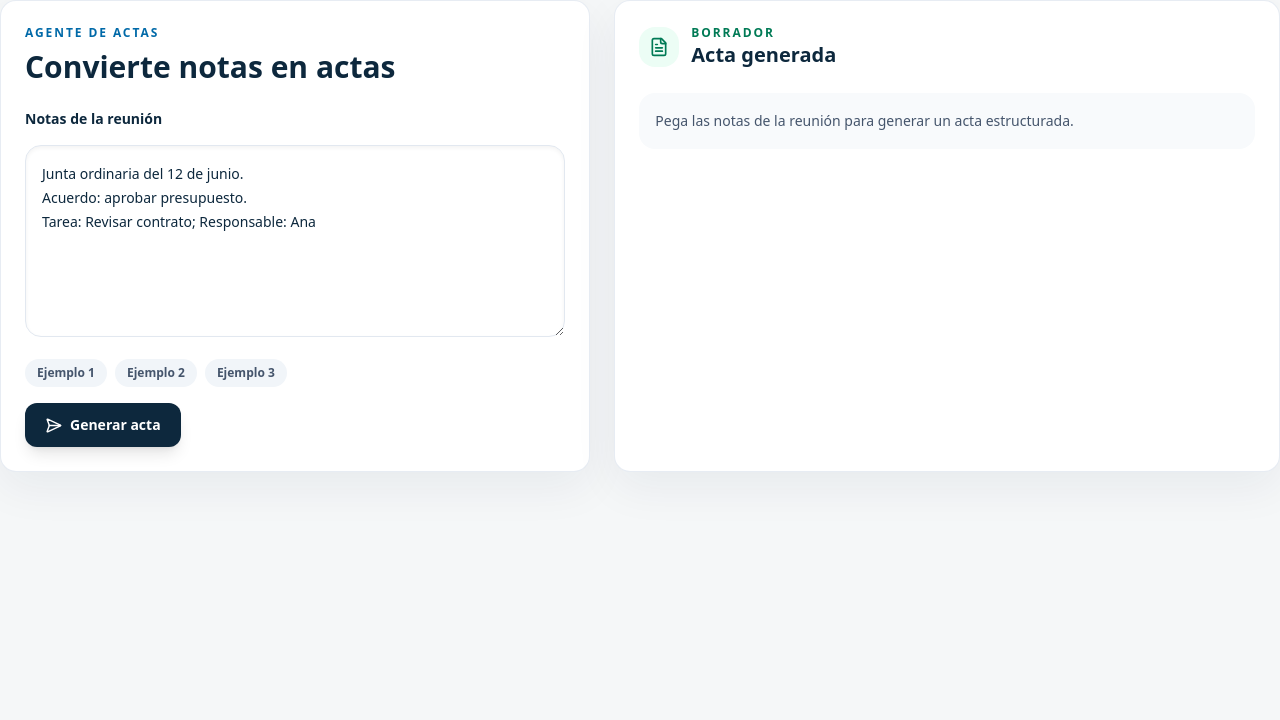
MeetingMinutesPanel › redacta y muestra un acta con tareas detectadas
Step 1. Replace the text in the text box labelled "Notas de la reunión" with "Acuerdo: aprobar presupuesto." → (295, 241), box [25, 145, 565, 337]
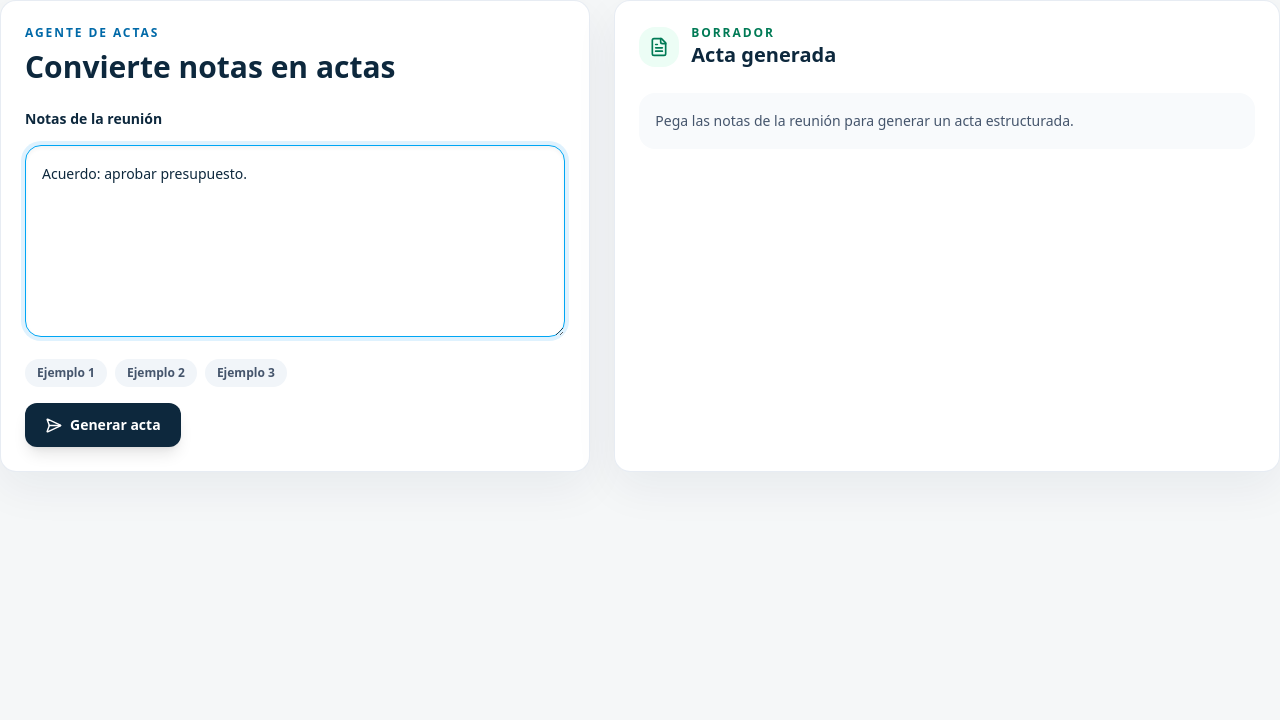
Step 2. Click the button "Generar acta" → (103, 425), box [25, 403, 181, 447]
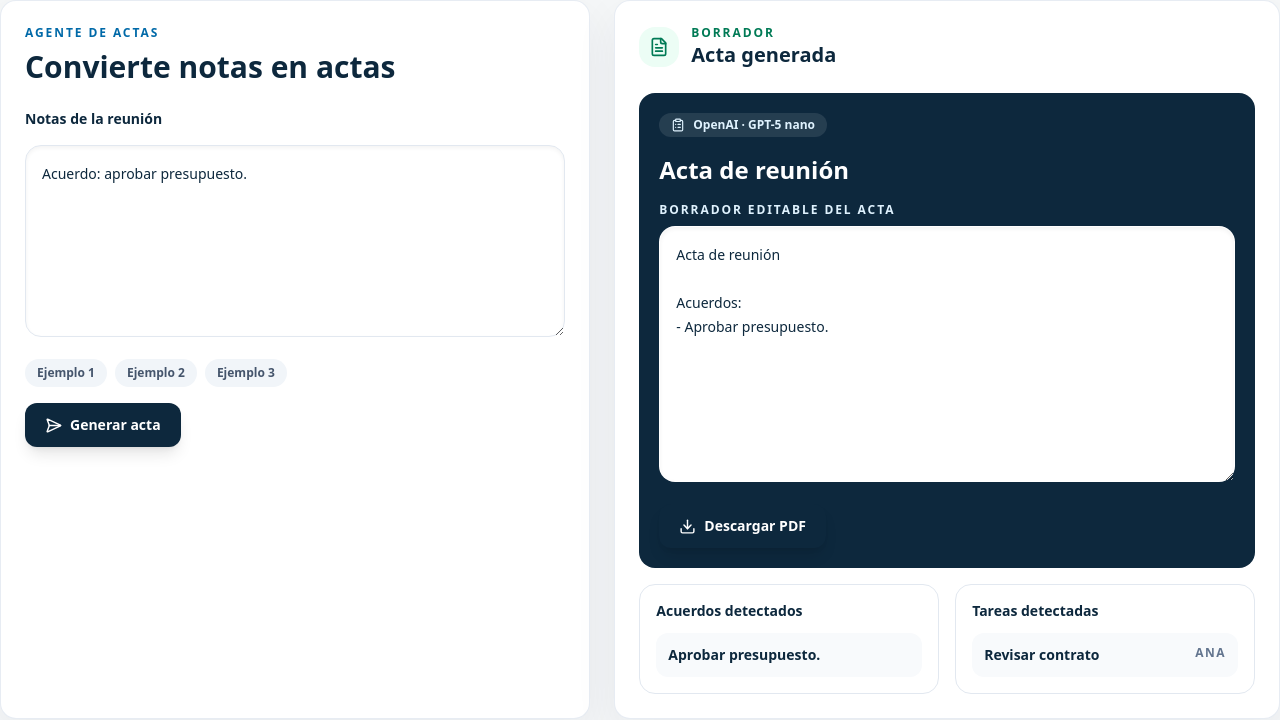
Check: the heading "Acta de reunión" is shown, box [659, 153, 849, 186]
Check: the text box showing "Acuerdos:" is shown, box [659, 226, 1235, 482]
Check: the heading "Acuerdos detectados" is shown, box [656, 601, 802, 620]
